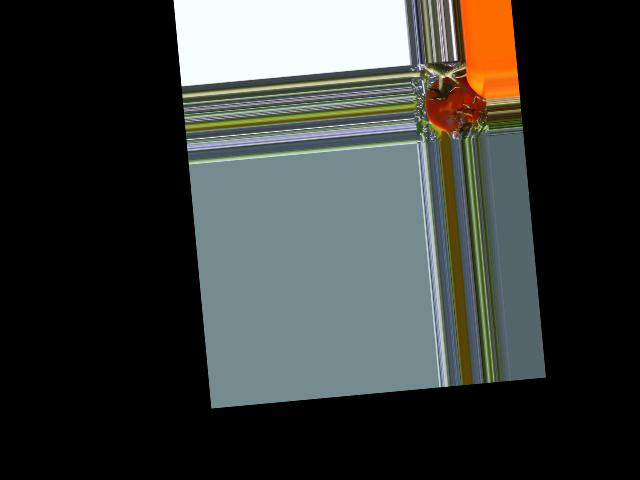tomato: (422, 73, 488, 136)
